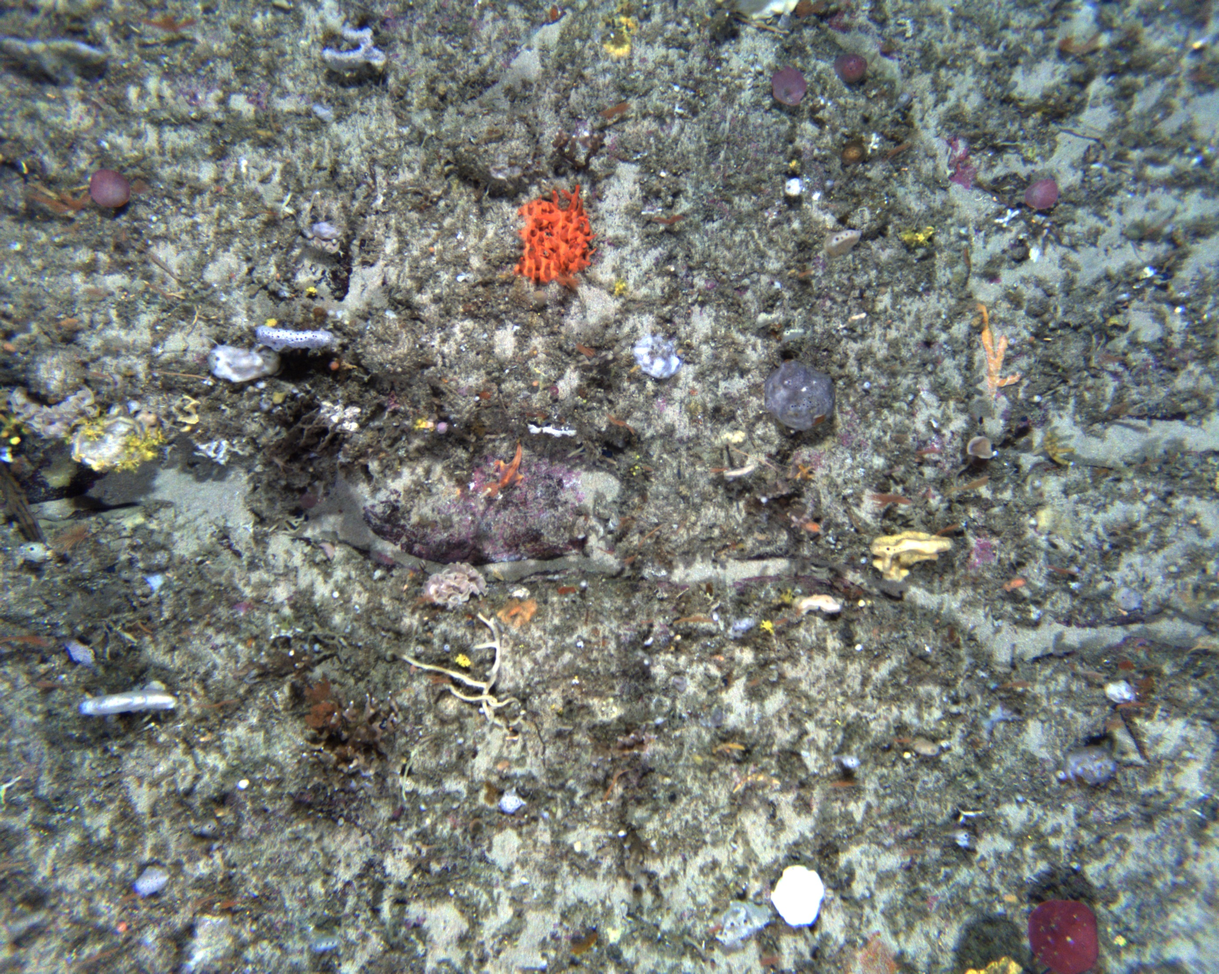Brachionichthyidae: (493, 427, 527, 490)
